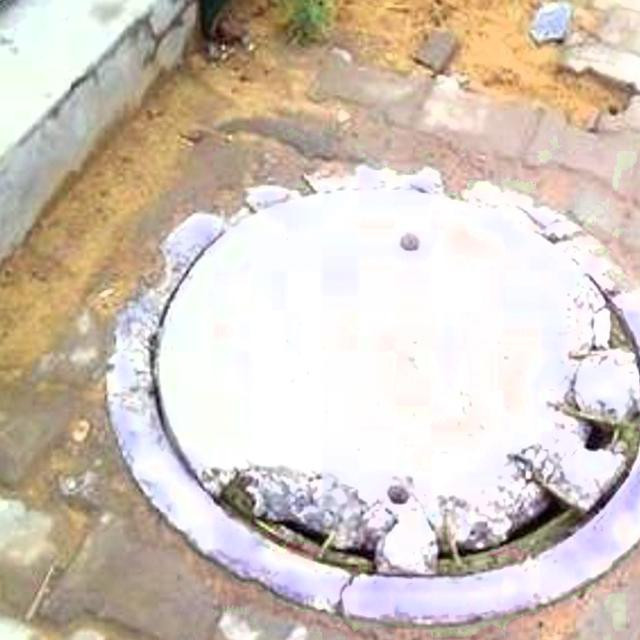broke: (97, 155, 640, 616)
